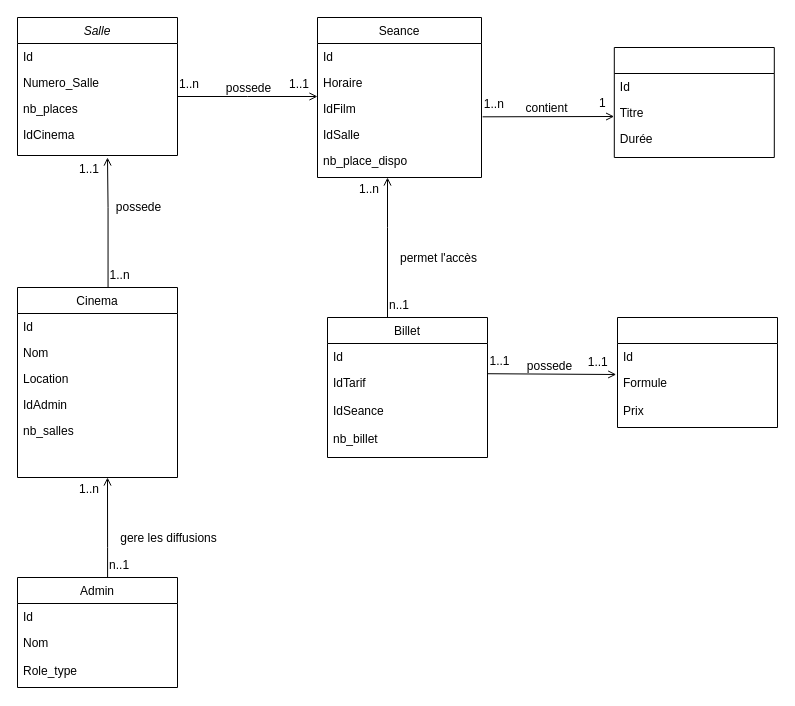
Image size: 795x706. Some labels were removed from this diagram. The shapes that lost their labels are listed below. From the top down, each one's box as (x1, y1, x2, y2) in pixels, then its label:
(613, 46, 774, 158): Film
(616, 316, 778, 428): Tarifs
